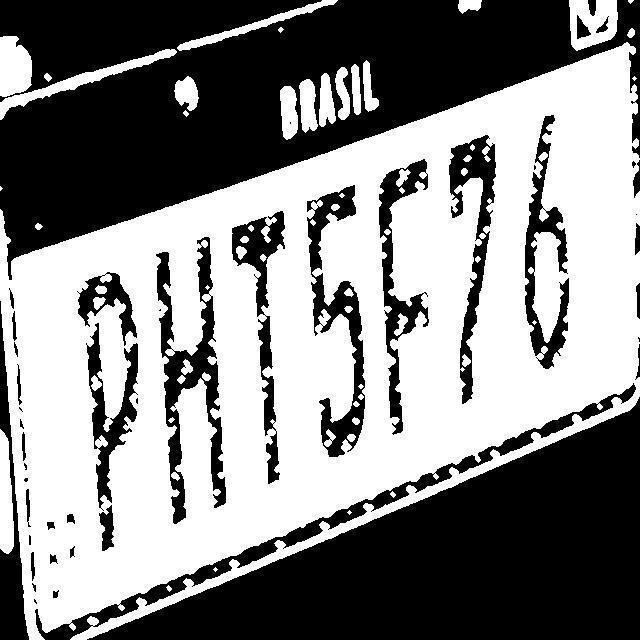5: (303, 175, 377, 466)
6: (517, 105, 580, 378)
7: (442, 126, 510, 410)
f: (372, 150, 438, 438)
h: (155, 228, 230, 528)
p: (70, 260, 142, 558)
t: (227, 211, 288, 487)
